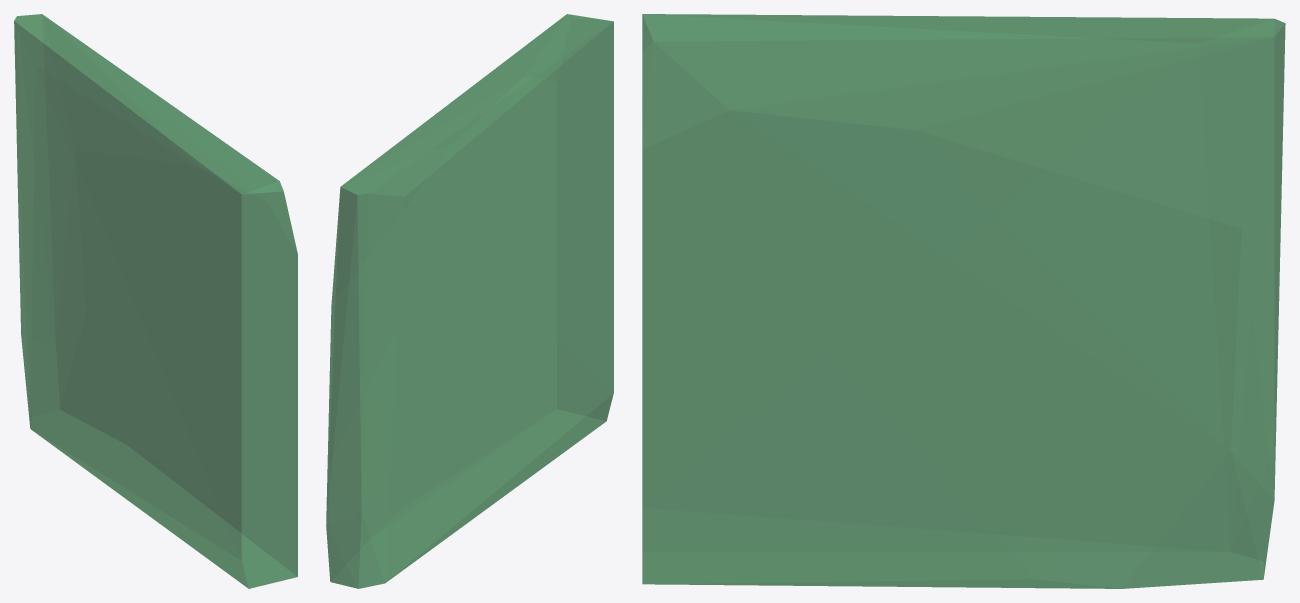
3 renders of one model, left to right at view 1: azimuth 30°, elevation 25°; view 2: azimuth 150°, elevation 25°; view 3: azimuth 270°, elevation 25°, orthographic. The views are drawn at different scales.
Parts seen in each view (by area): view 1: Shape_IndexedFaceSet.008_Shape_IndexedFaceSet.1746; view 2: Shape_IndexedFaceSet.008_Shape_IndexedFaceSet.1746; view 3: Shape_IndexedFaceSet.008_Shape_IndexedFaceSet.1746.
Part boxes in pixels (x1=…): Shape_IndexedFaceSet.008_Shape_IndexedFaceSet.1746: x1=14, y1=14, x2=297, y2=588; Shape_IndexedFaceSet.008_Shape_IndexedFaceSet.1746: x1=326, y1=14, x2=613, y2=588; Shape_IndexedFaceSet.008_Shape_IndexedFaceSet.1746: x1=642, y1=14, x2=1285, y2=588.
Size of the model in its own units: 0.00342 by 0.0205 by 0.0224.
